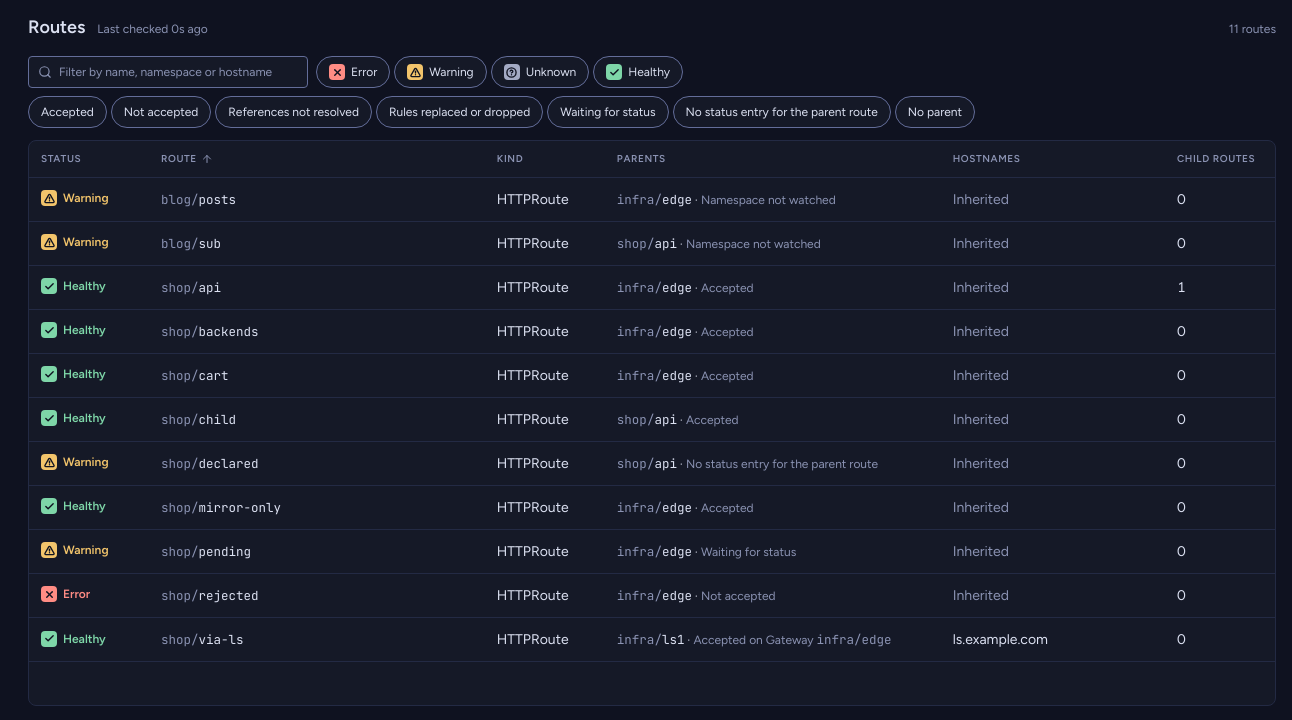
a failed query keeps its title and filters, and Clear filters recovers
This screenshot has width=1292, height=720.
Expected: the text "rejected" is shown, [198, 586, 258, 604]
Click the button "Error": (353, 72) [316, 56, 390, 88]
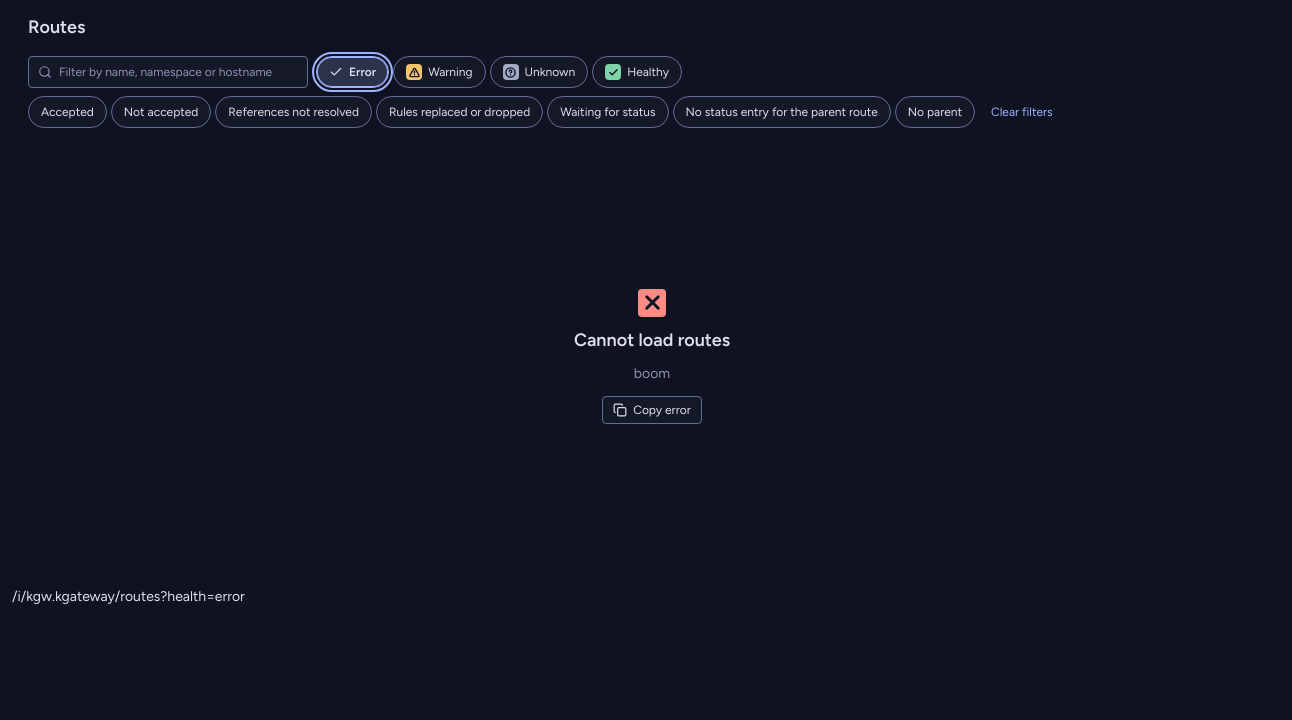
Expected: the heading "Routes" is shown, [28, 16, 85, 38]
Now the heading "Cannot load routes" is shown, box [574, 328, 730, 350]
Click the button "Clear filters": (1022, 112) [983, 98, 1061, 126]
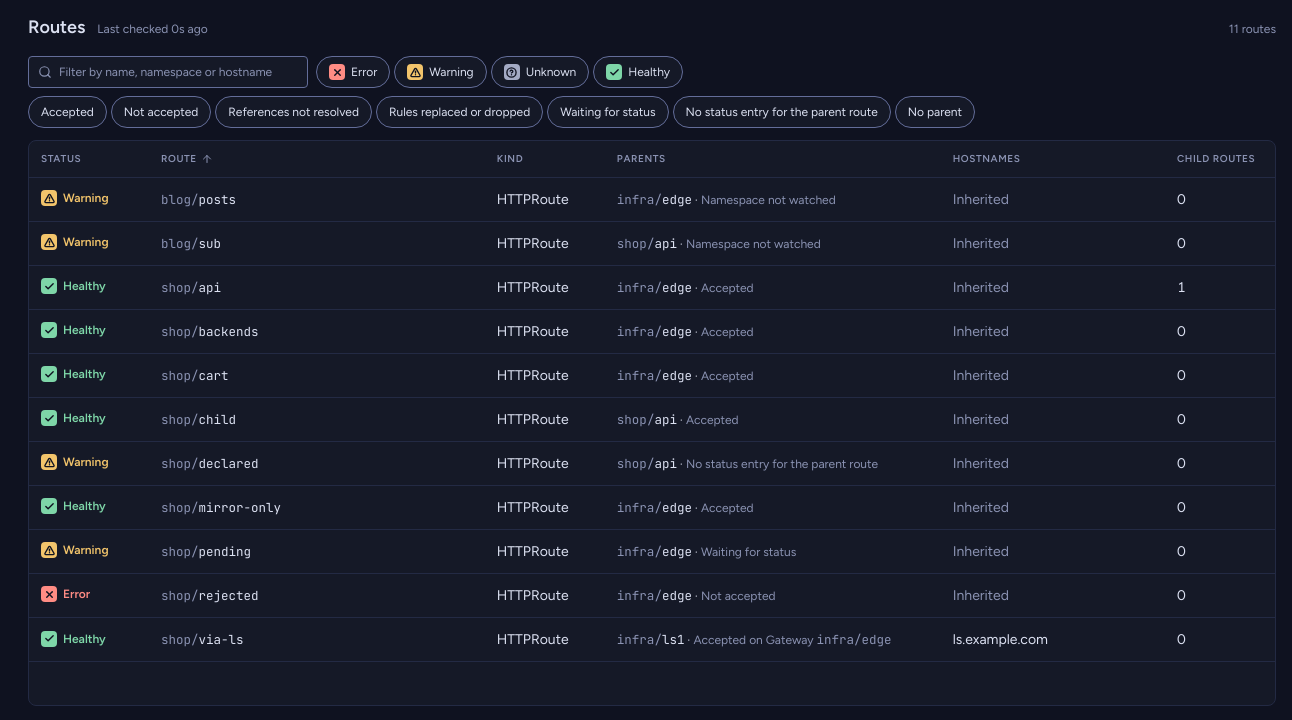
Now the text "rejected" is shown, box [198, 586, 258, 604]
